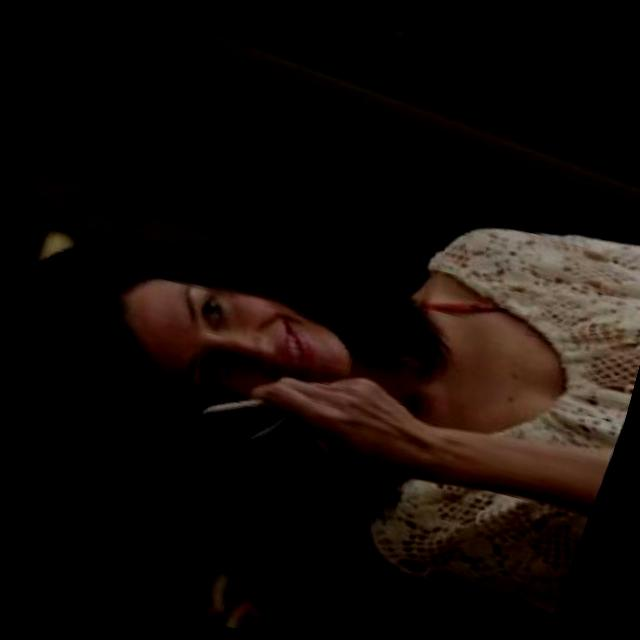cigarette: (198, 377, 267, 432), (246, 401, 298, 454)
